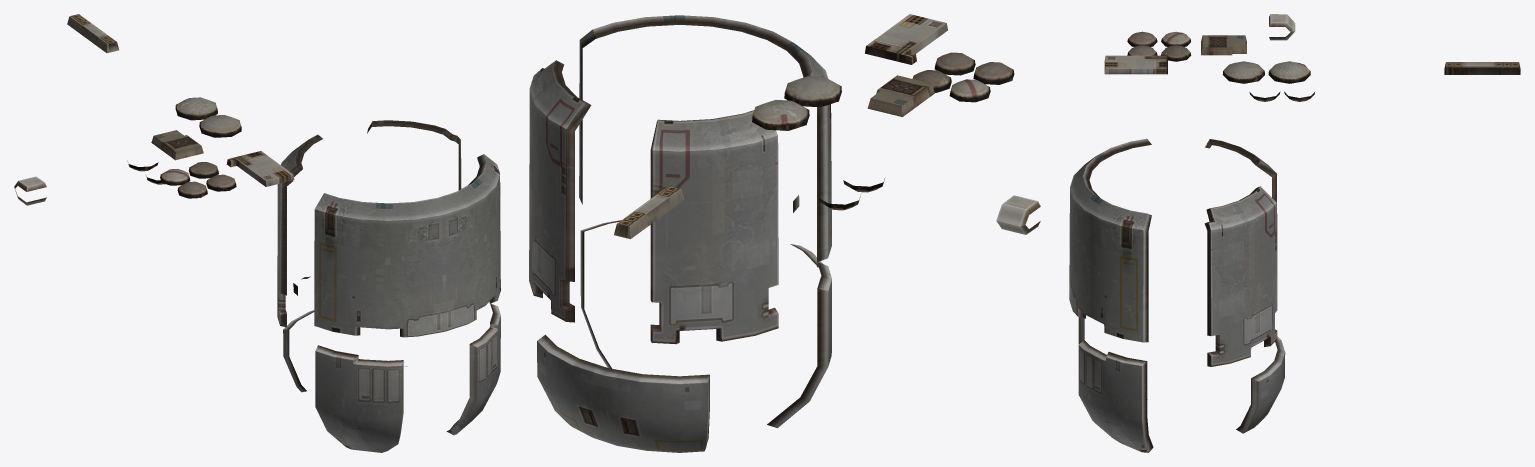
The model's file is prop_static_tr1_container_01_03.glb.
3 renders of one model, left to right at view 1: azimuth 30°, elevation 25°; view 2: azimuth 150°, elevation 25°; view 3: azimuth 270°, elevation 25°, orthographic. The views are drawn at different scales.
Parts seen in each view (by area): view 1: tr1_container_01_03_LOD0; view 2: tr1_container_01_03_LOD0; view 3: tr1_container_01_03_LOD0.
Boxes of the visible parts, x1,y1,x2,y2 form: tr1_container_01_03_LOD0: (14, 14, 500, 452); tr1_container_01_03_LOD0: (529, 14, 1040, 452); tr1_container_01_03_LOD0: (1069, 14, 1520, 452).
Size of what is drawn, in the model's own units: 5.77 by 4.21 by 5.78.
1 material, 1 textured.
